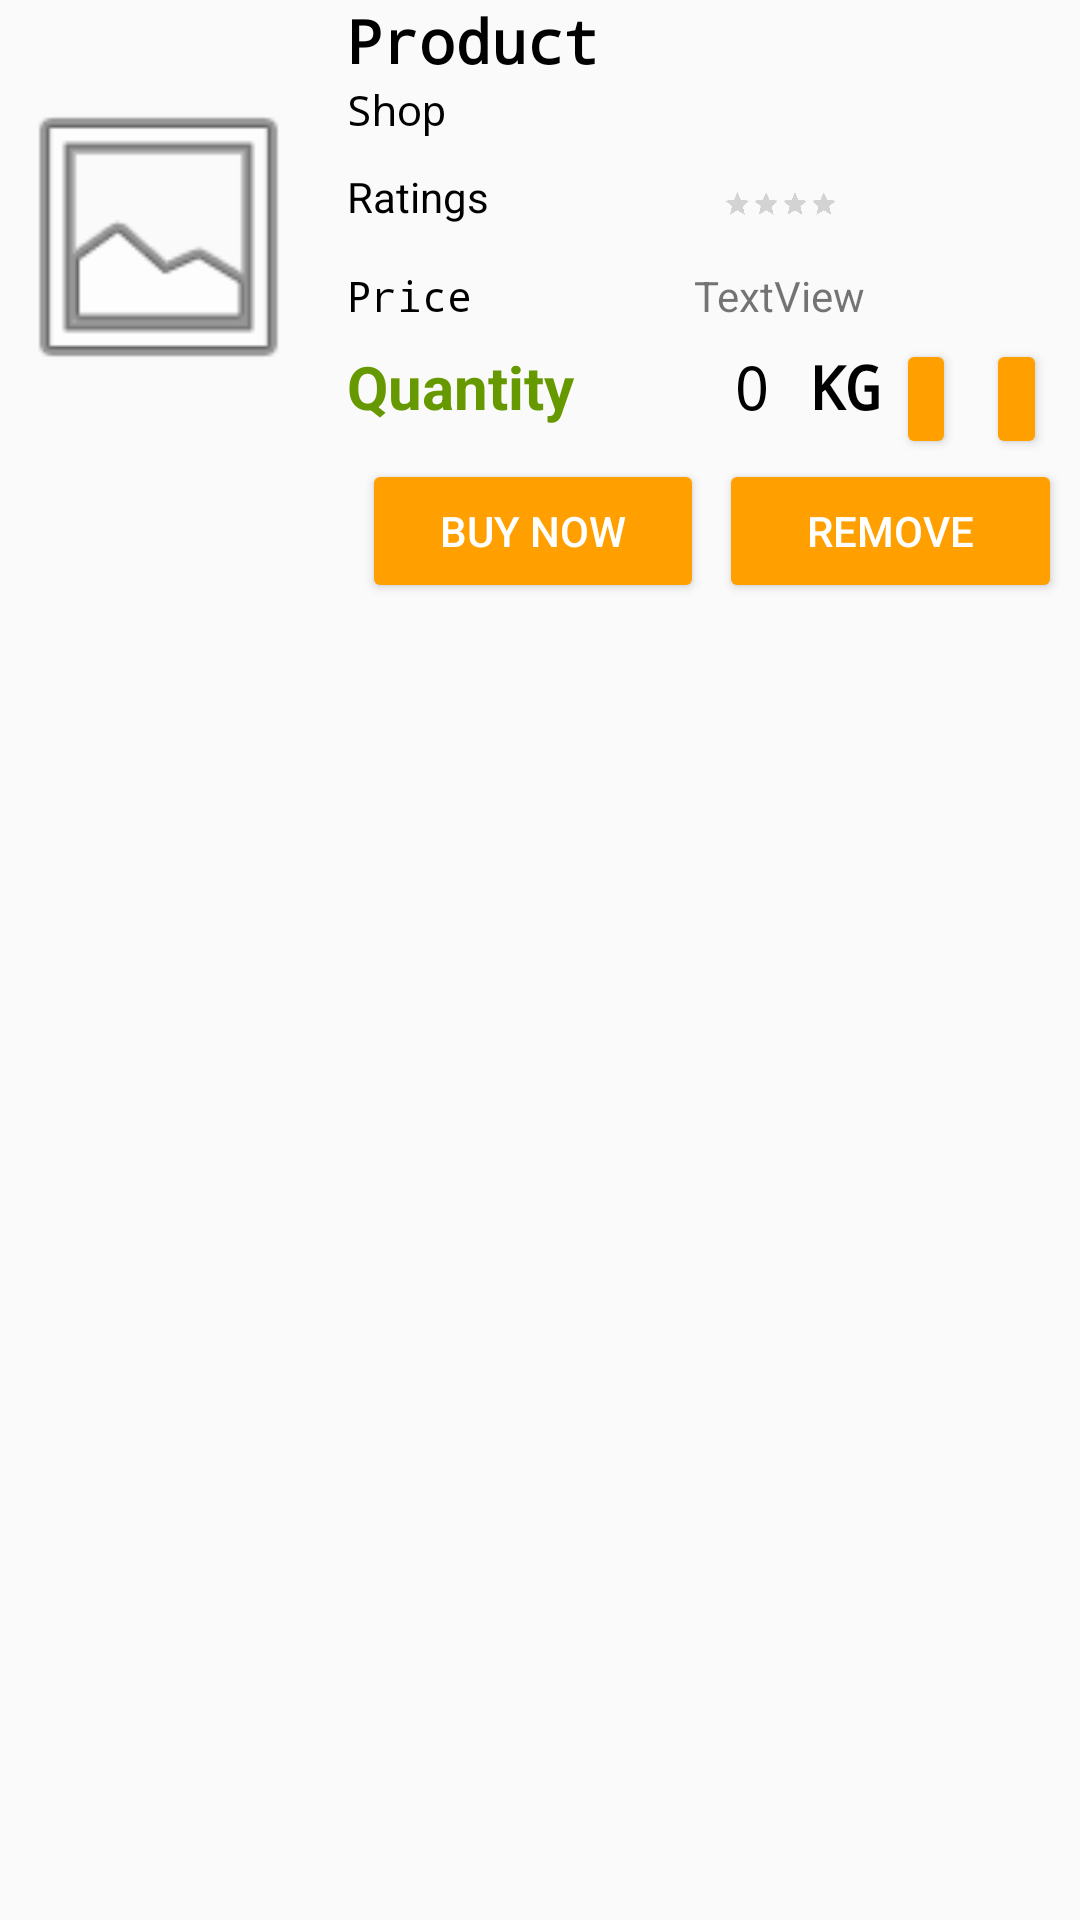

Where icons sit on this 1080*1920 app screen, as rect(x1, y1, x2, y2):
gallery: rect(39, 117, 278, 357)
